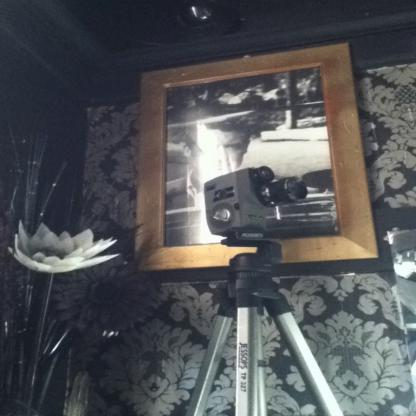Camera: (203, 162, 350, 242)
